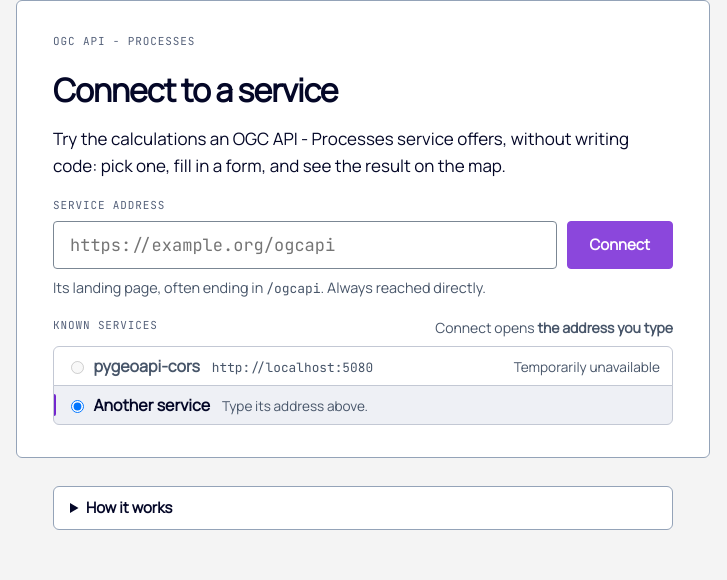
it: a relay service while the relay is down (updated: false) › is not what Connect opens
The image size is (727, 580).
Click the button "Connect" at (620, 246), box 566,222 -> 673,270
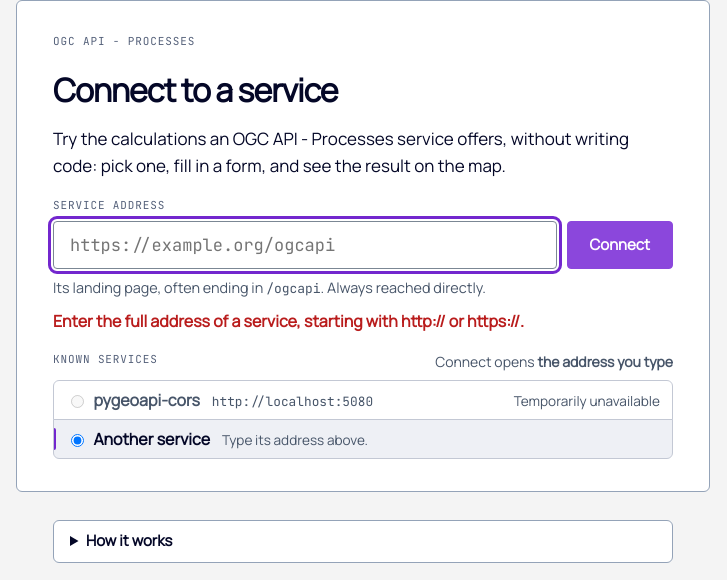
Now the message "Enter the full address of a service, starting with http:// or https://." is shown, box 53,310 -> 524,332
